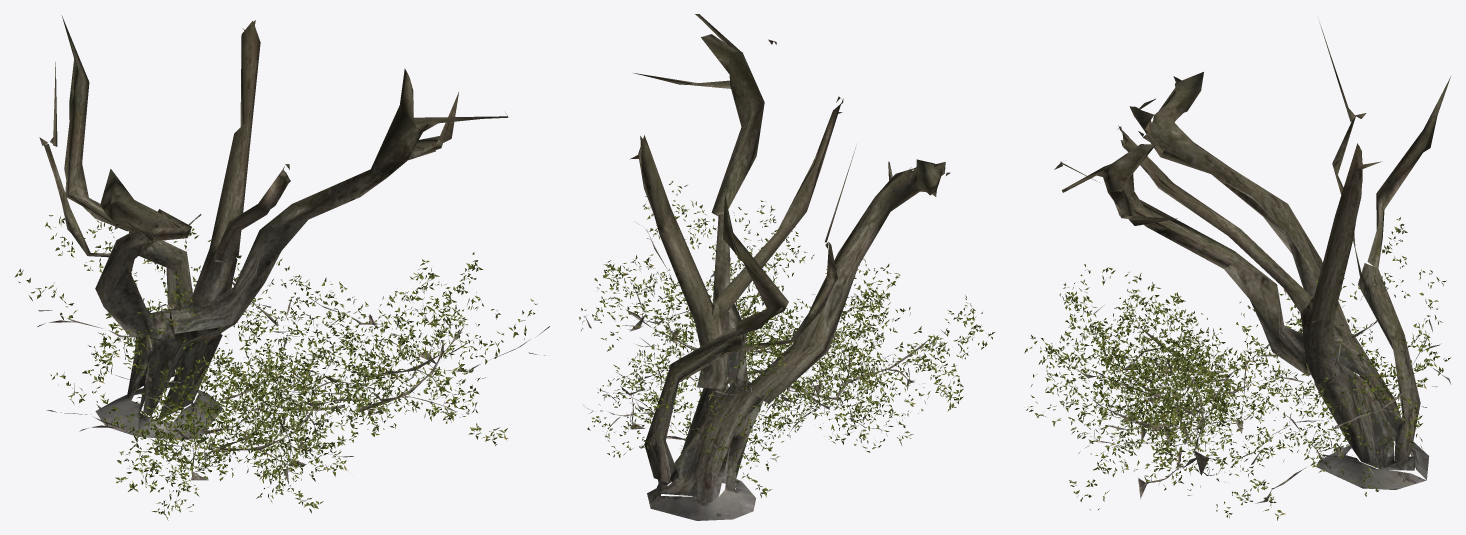
Rendered from tree_big_b.glb.
3 renders of one model, left to right at view 1: azimuth 30°, elevation 25°; view 2: azimuth 150°, elevation 25°; view 3: azimuth 270°, elevation 25°, orthographic. The views are drawn at different scales.
Visible parts, largest first — view 1: island_tree_02_LOD0; view 2: island_tree_02_LOD0; view 3: island_tree_02_LOD0.
Boxes of the visible parts, bbox=[...] form: island_tree_02_LOD0: bbox=[14, 15, 549, 520]; island_tree_02_LOD0: bbox=[579, 14, 994, 520]; island_tree_02_LOD0: bbox=[1024, 22, 1451, 520].
Bounding box in the file's own units: 4.02 × 4.02 × 4.02.
3 materials, 3 textured.
